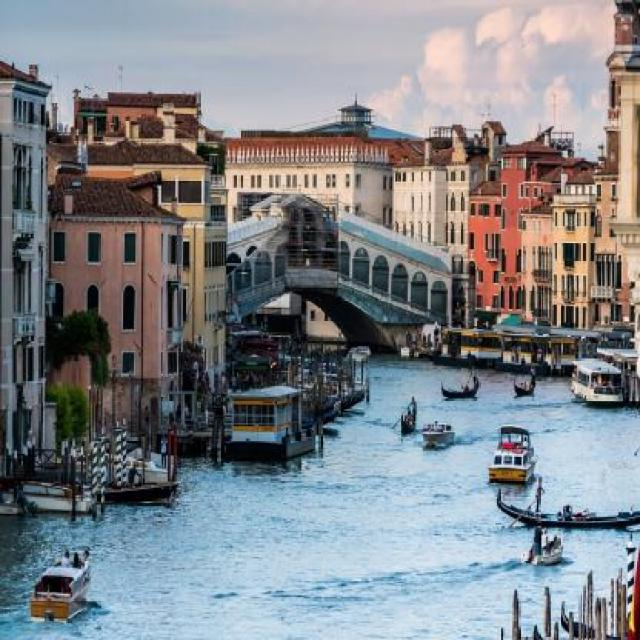ship: (27, 553, 91, 621), (57, 450, 172, 484), (28, 557, 89, 621), (488, 424, 540, 482), (568, 356, 624, 406), (21, 476, 90, 513), (94, 480, 180, 502), (419, 420, 456, 446), (439, 378, 481, 398), (398, 406, 418, 436), (511, 378, 535, 397)
